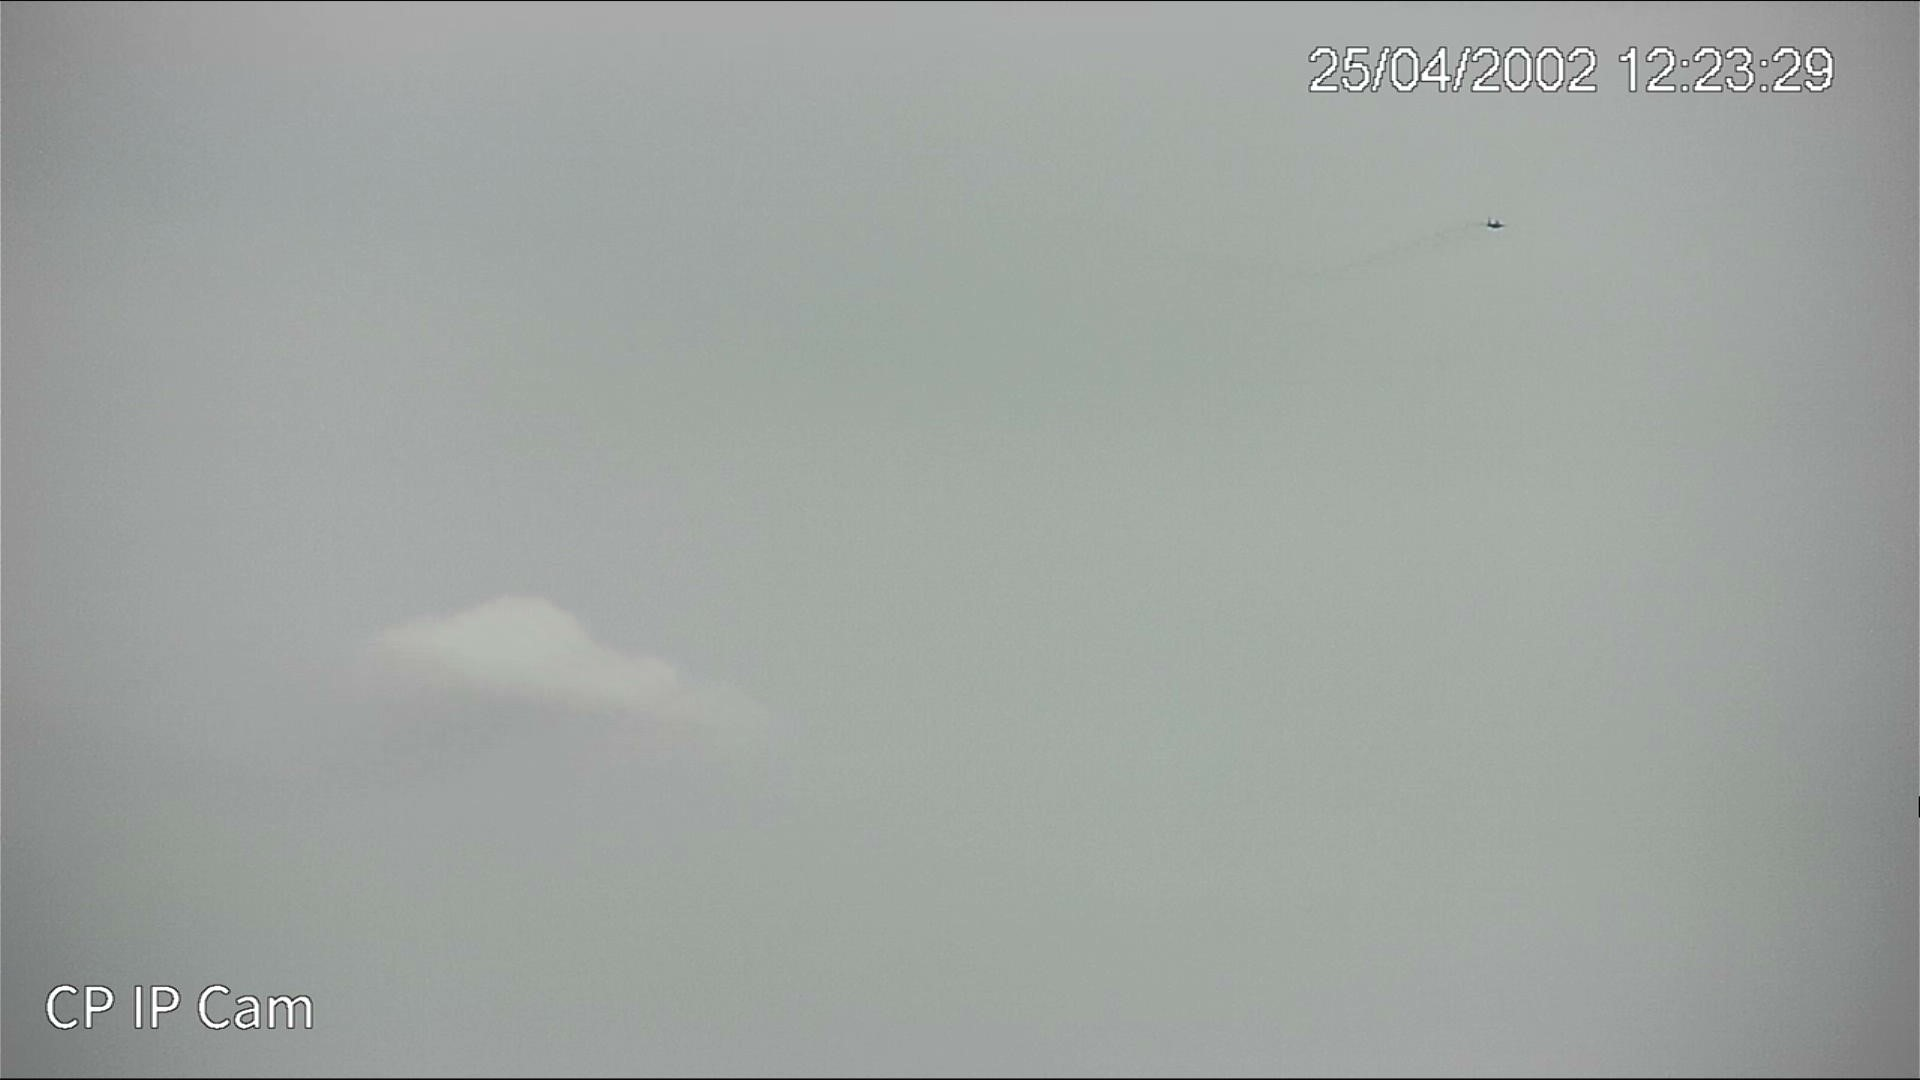SU_30: (1485, 218, 1509, 228)
